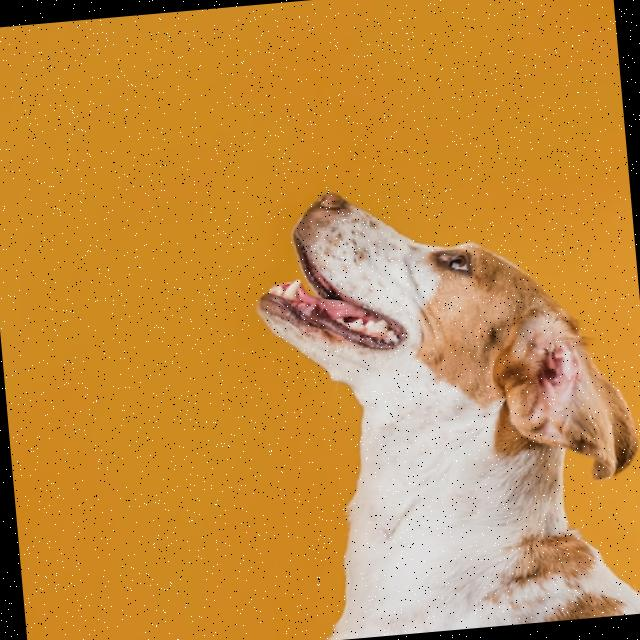Dog: (246, 166, 640, 640)
